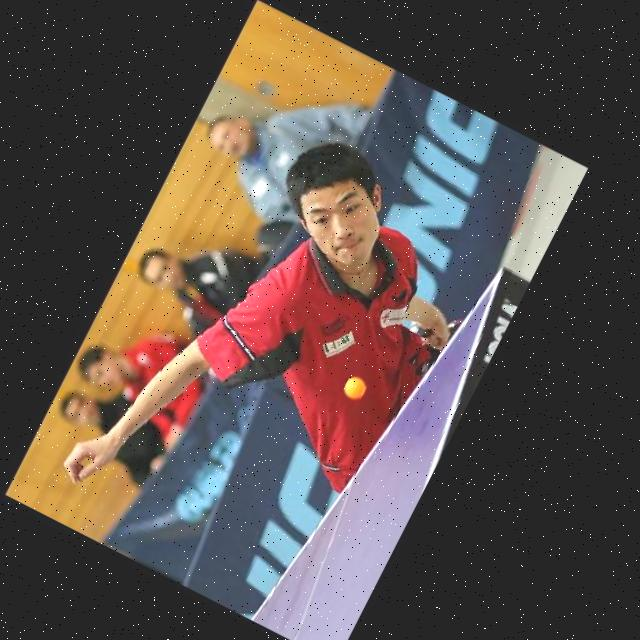ping-pong-ball: (338, 372, 368, 402)
